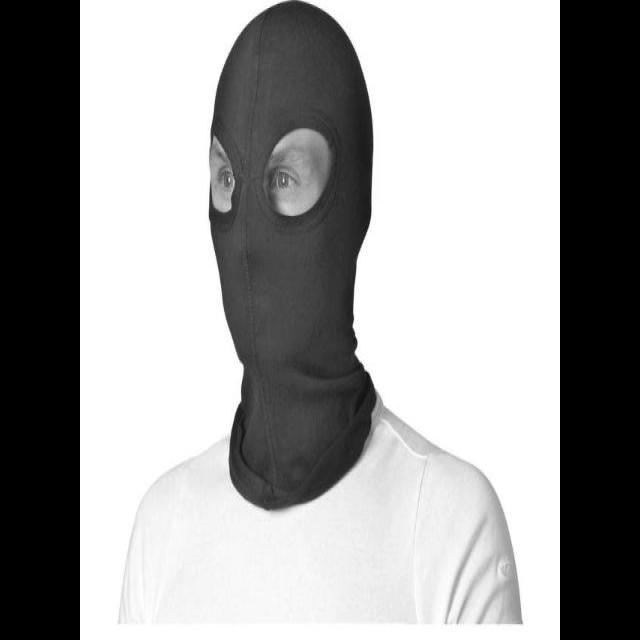6_pasamontana: (208, 3, 378, 509)
